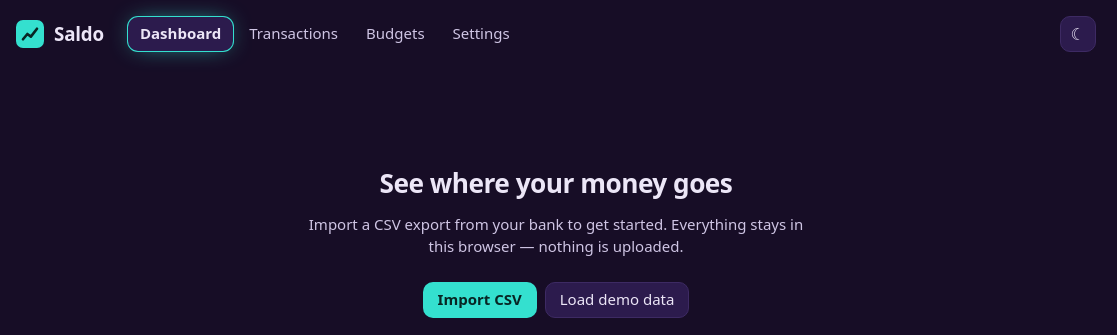
Test: toggles and remembers the theme
Click the button named "Switch to dark theme" at (1078, 34), box [1060,16,1096,52]
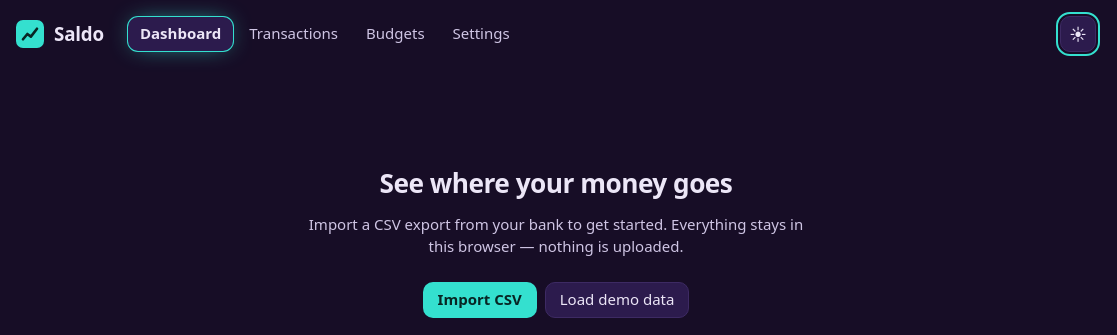
Check: the button named "Switch to light theme" is shown, box [1060,16,1096,52]
